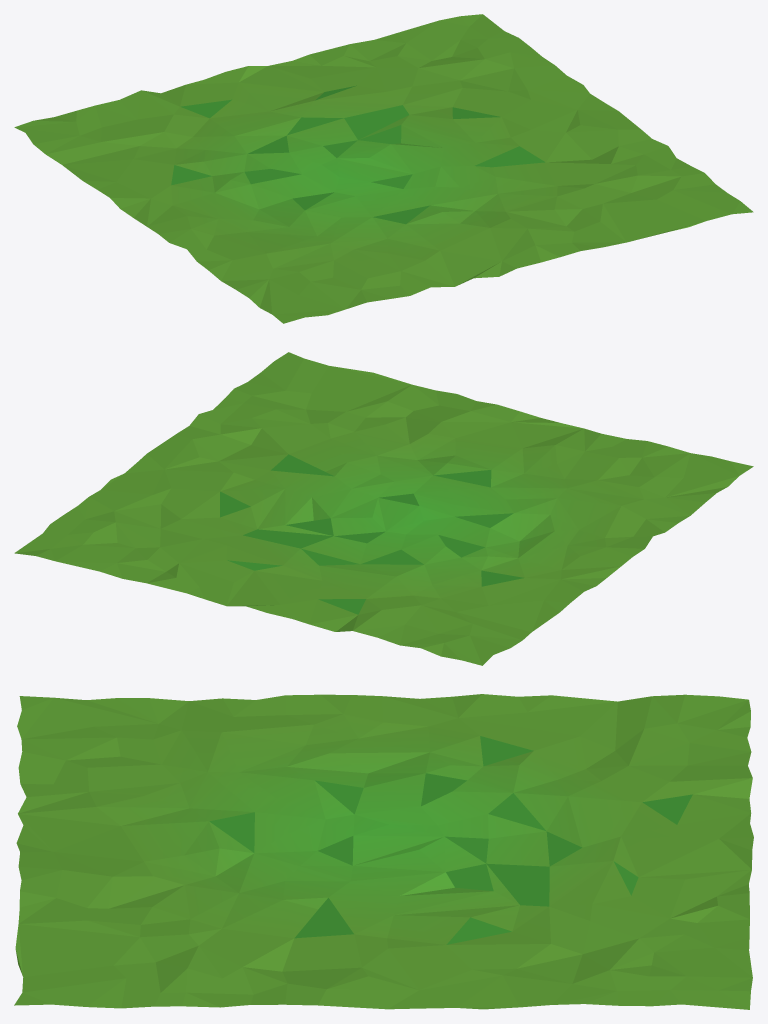
The model's file is terrain_01.fbx.
The picture shows the model from 3 angles, top to bottom: view 1: azimuth 30°, elevation 25°; view 2: azimuth 150°, elevation 25°; view 3: azimuth 270°, elevation 25°; orthographic projection. The views are drawn at different scales.
Parts seen in each view (by area): view 1: Plane.006; view 2: Plane.006; view 3: Plane.006.
Boxes of the visible parts, x1,y1,x2,y2 form: Plane.006: (14, 14, 753, 323); Plane.006: (14, 352, 753, 665); Plane.006: (14, 694, 753, 1009).
Size of the model in its own units: 65.95 by 1.19 by 66.02.
